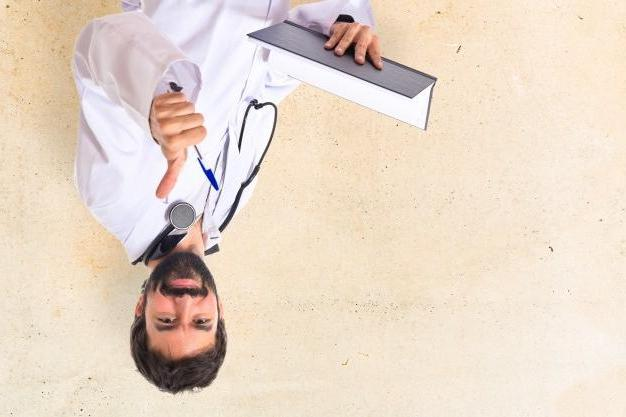thumbsdown: (152, 92, 207, 199)
